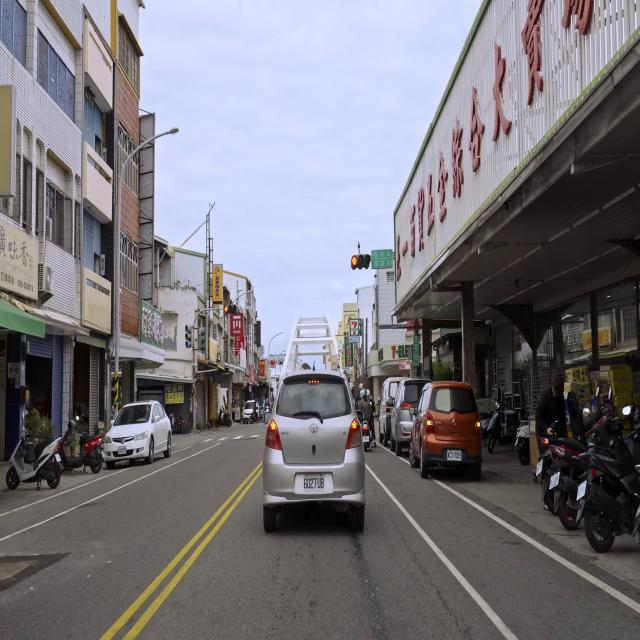red light: (351, 254, 371, 268), (224, 304, 237, 314)
